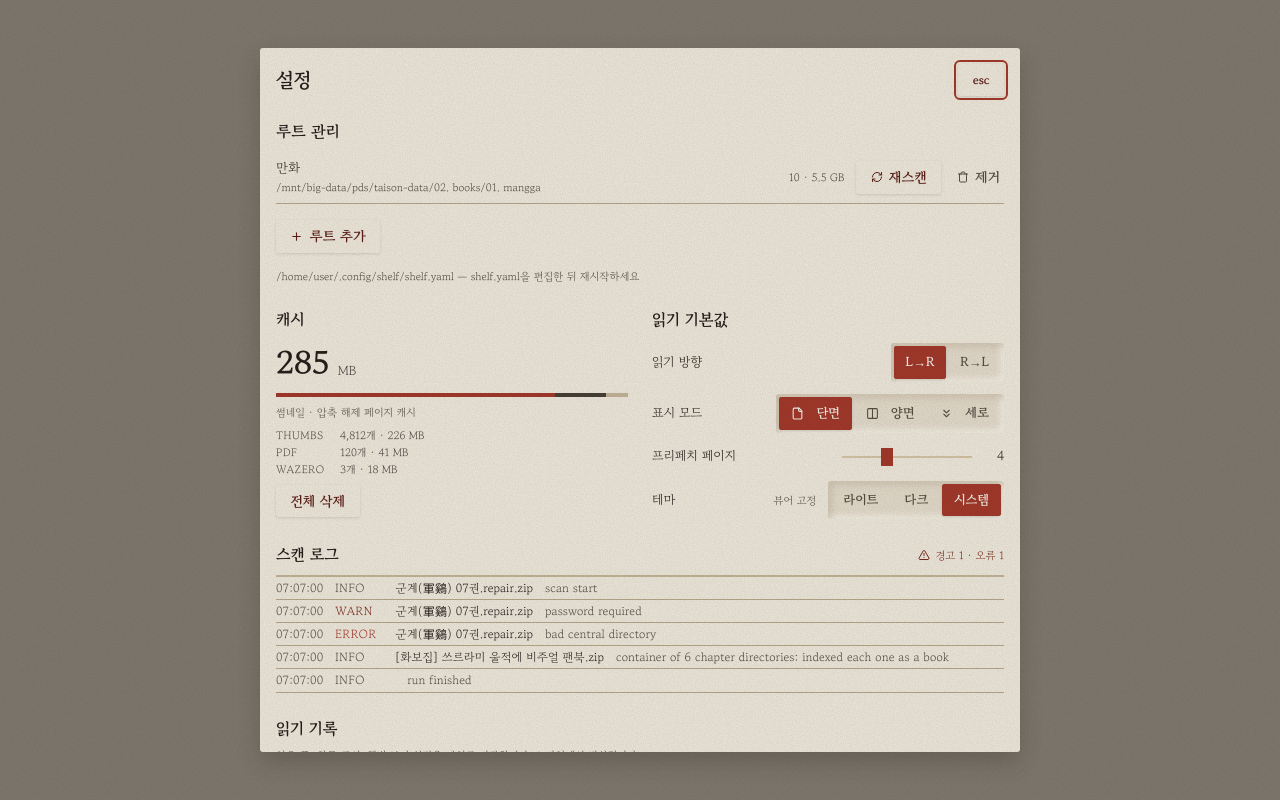
Test case: 루트 추가/제거 (amendment A-11, ruling E-26) › surfaces the not_absolute rejection as its own message
This screenshot has width=1280, height=800.
Check: the text "만화" is shown, box 276,158 -> 300,177
Click the button "루트 추가".
click(328, 236)  # box 276,220 -> 380,253
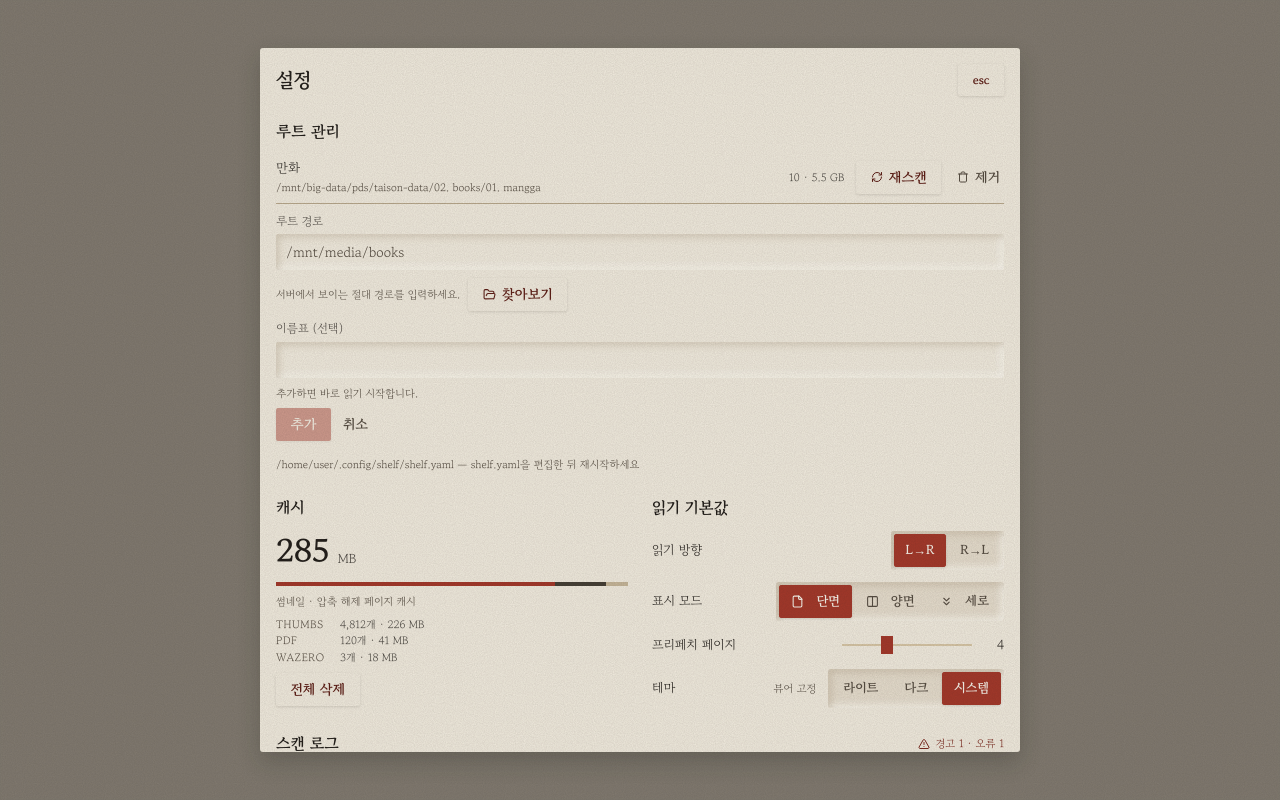
Type "/srv/media/manga" into the field labelled "루트 경로".
click(640, 252); type("/srv/media/manga")  # box 276,234 -> 1004,270
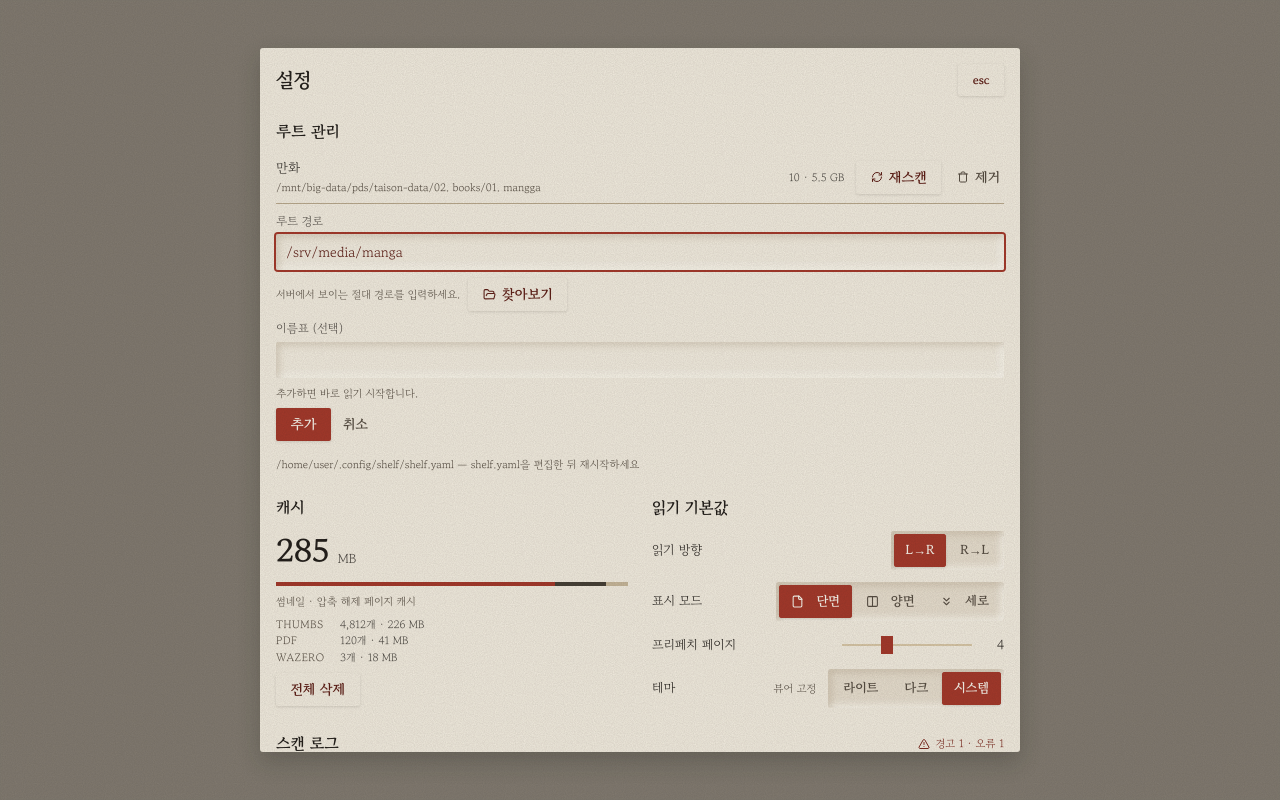
Click the button "추가".
click(304, 425)  # box 276,408 -> 331,441
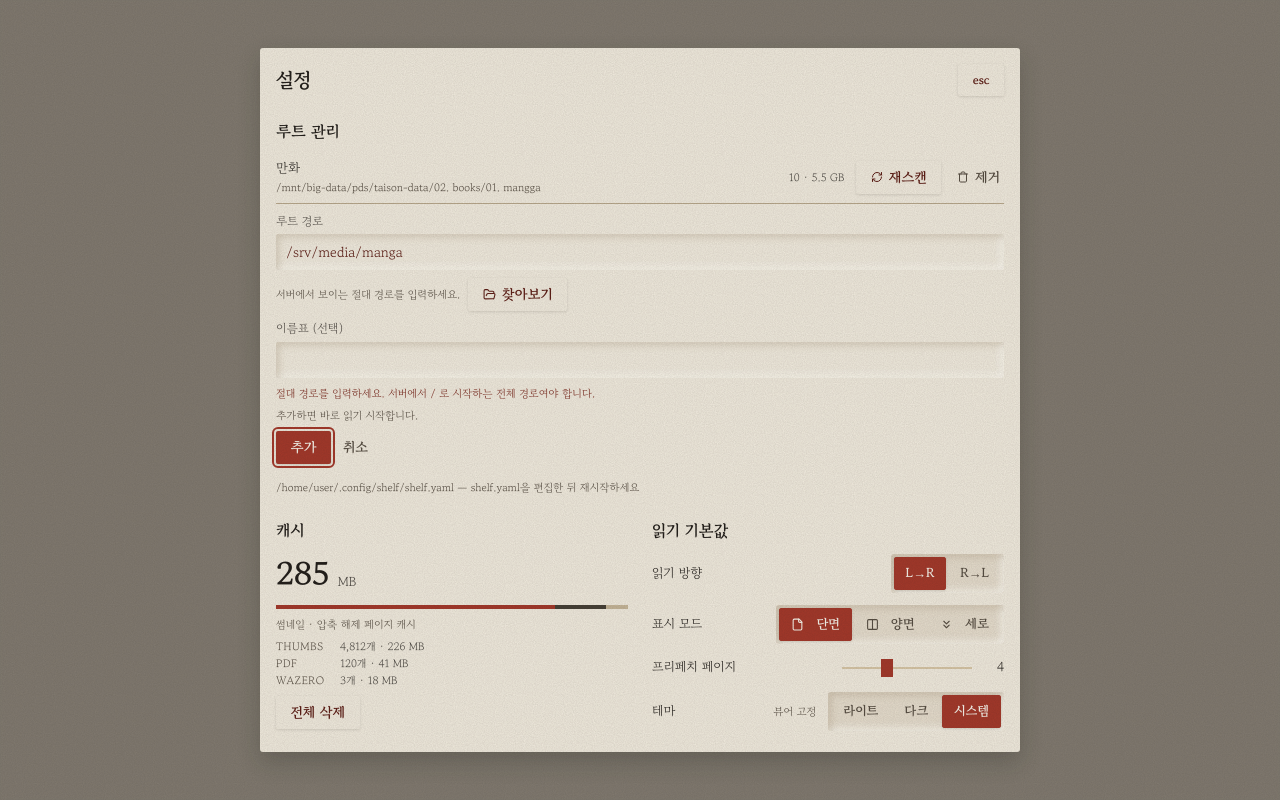
Check: the message shows "절대 경로", box 276,385 -> 595,401
